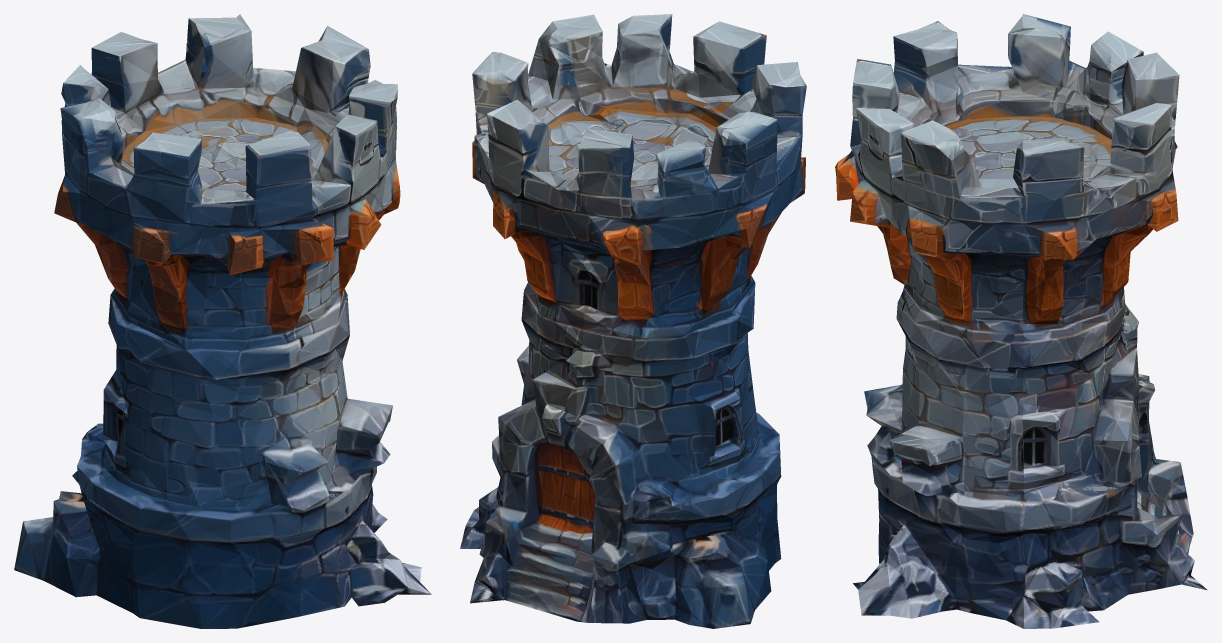
File: tower.obj
3 views of the same model, side by side, from view 1: azimuth 30°, elevation 25°; view 2: azimuth 150°, elevation 25°; view 3: azimuth 270°, elevation 25° (orthographic). The views are drawn at different scales.
Visible parts, largest first — view 1: tripo_node_11d6e063-f95b-4023-bd17-5a2037ddf8e1; view 2: tripo_node_11d6e063-f95b-4023-bd17-5a2037ddf8e1; view 3: tripo_node_11d6e063-f95b-4023-bd17-5a2037ddf8e1.
Part boxes in pixels (box(x1,y1,x2,y2)): tripo_node_11d6e063-f95b-4023-bd17-5a2037ddf8e1: box(14, 14, 431, 628); tripo_node_11d6e063-f95b-4023-bd17-5a2037ddf8e1: box(460, 14, 806, 628); tripo_node_11d6e063-f95b-4023-bd17-5a2037ddf8e1: box(835, 14, 1207, 628).
Size of the model in its own units: 0.6981 by 0.9821 by 0.7009.
Materials: 1 (1 with a texture image).
